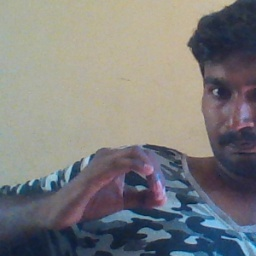O: (48, 144, 174, 236)
